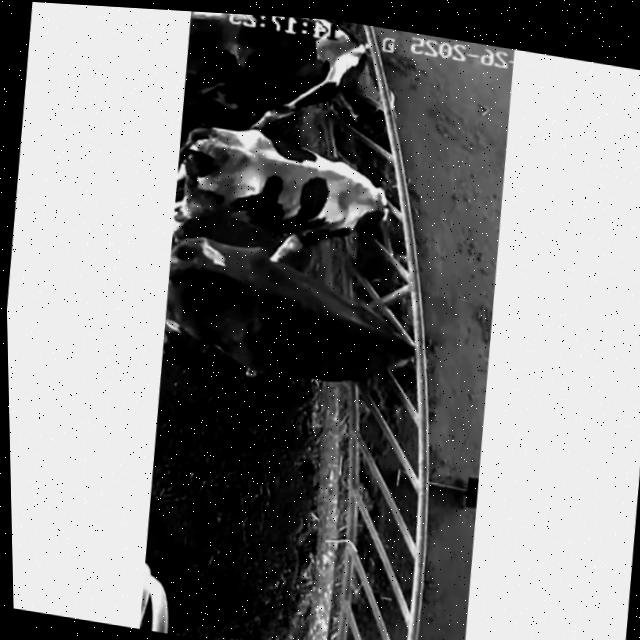eat: (256, 15, 453, 136), (288, 281, 477, 395), (282, 142, 468, 257)
